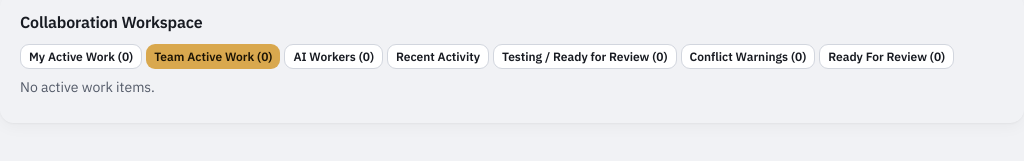
Test: CollaborationWorkspace › Recent Activity renders timeline entries
This screenshot has width=1024, height=161.
Expected: the text "No active work items." is shown, [20,78,155,96]
Step 1. Click the button "Recent Activity" → (438, 56), box [387,44,489,69]
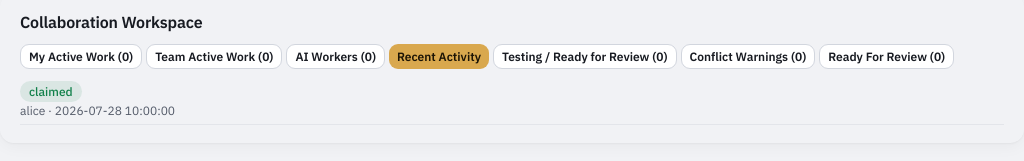
Now the text "alice · 2026-07-28 10:00:00" is shown, box [20,103,175,118]
